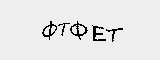В: (10, 17, 28, 36)
С: (53, 14, 73, 39)
Т: (111, 19, 129, 43), (126, 24, 144, 44)
Ю: (72, 16, 113, 42)
Ө: (27, 14, 53, 34)
